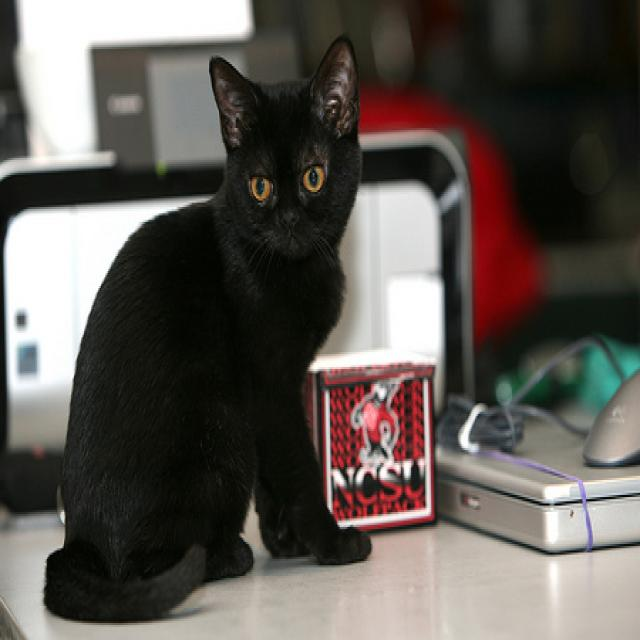Bombay: (41, 33, 376, 620)
